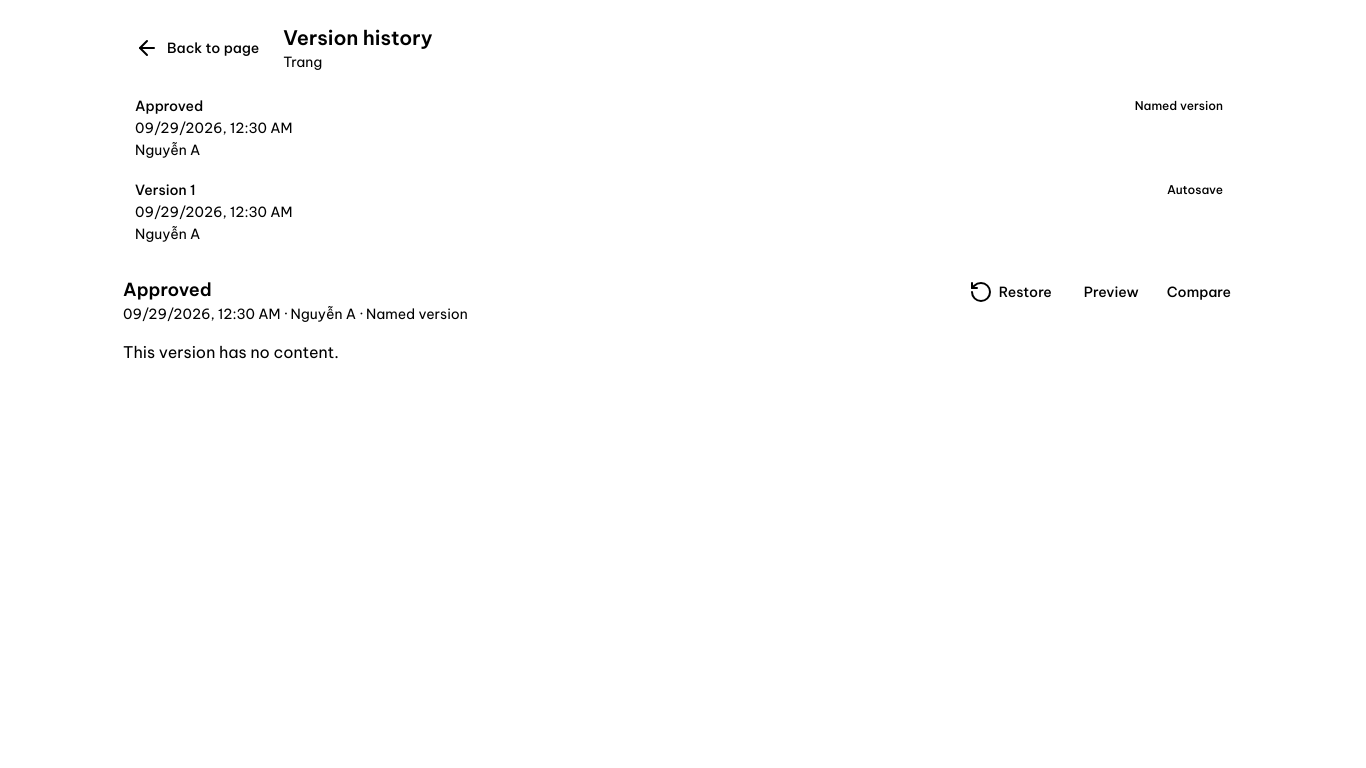
Test: restore from the history › asks for confirmation, restores and links to the undo version
Click the button "Restore" at (1010, 292), box [957, 276, 1064, 308]
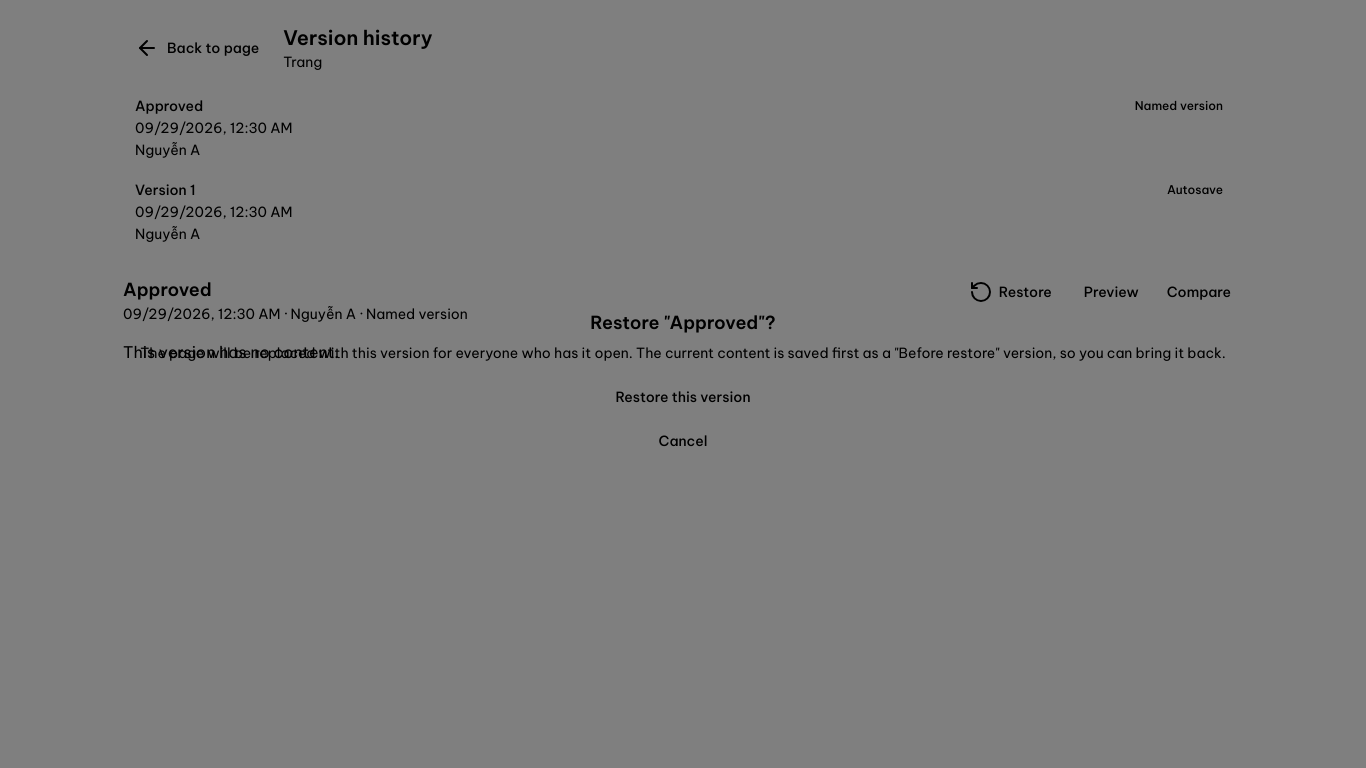
Now the heading "Restore \"Approved\"?" is shown, box [590, 309, 776, 337]
Click the button "Restore this version" at (683, 397), box [40, 379, 1326, 415]
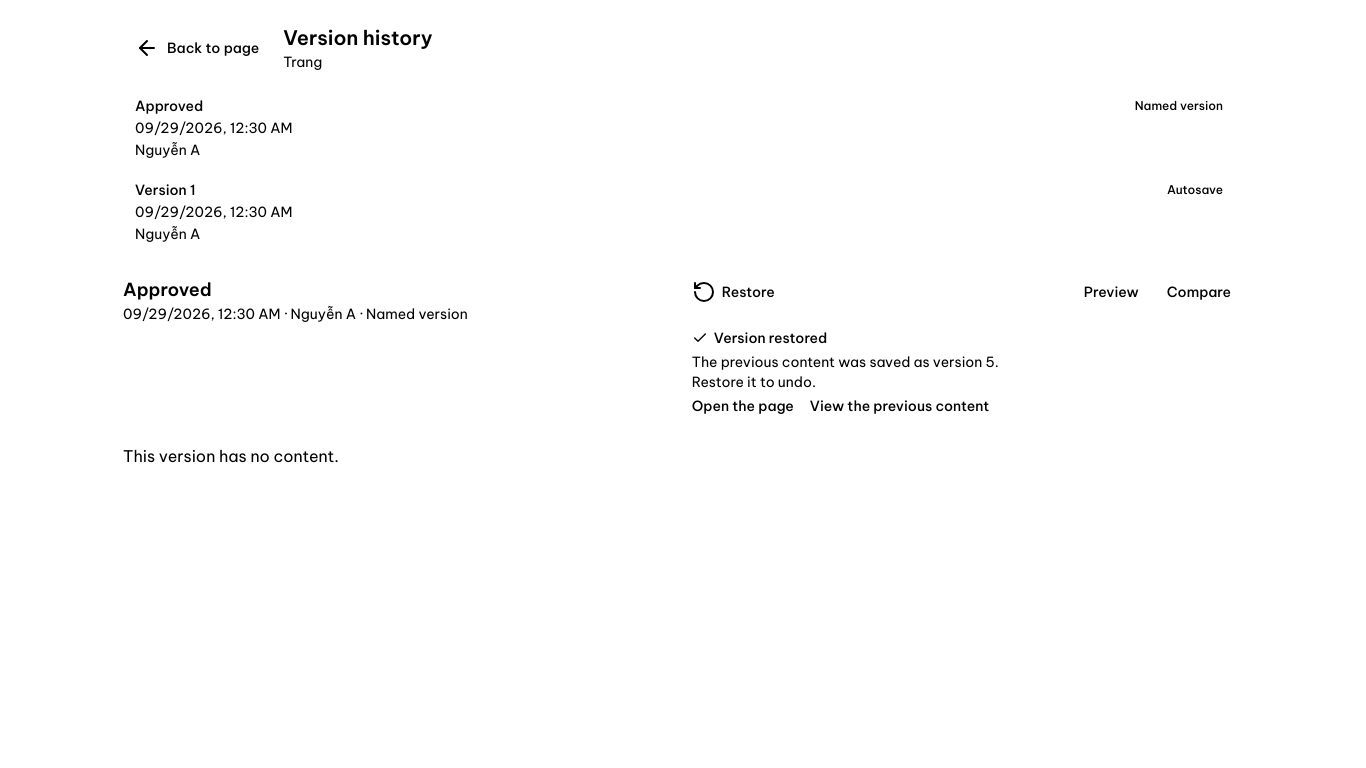
Now the text "Version restored" is shown, box [692, 329, 827, 347]
